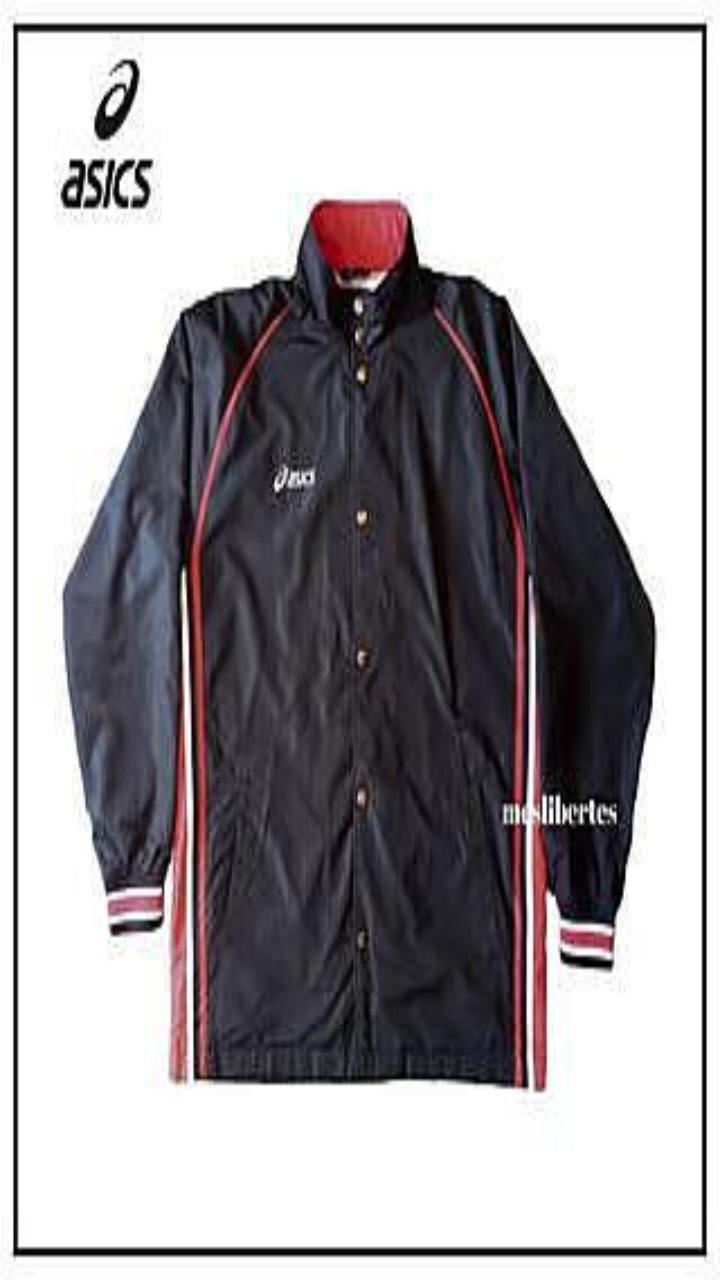Sports_Jacket: (64, 201, 653, 1087)
